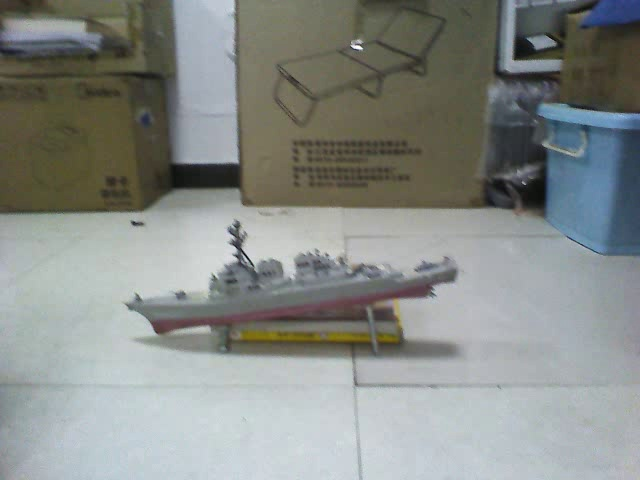warship: (126, 216, 459, 322)
